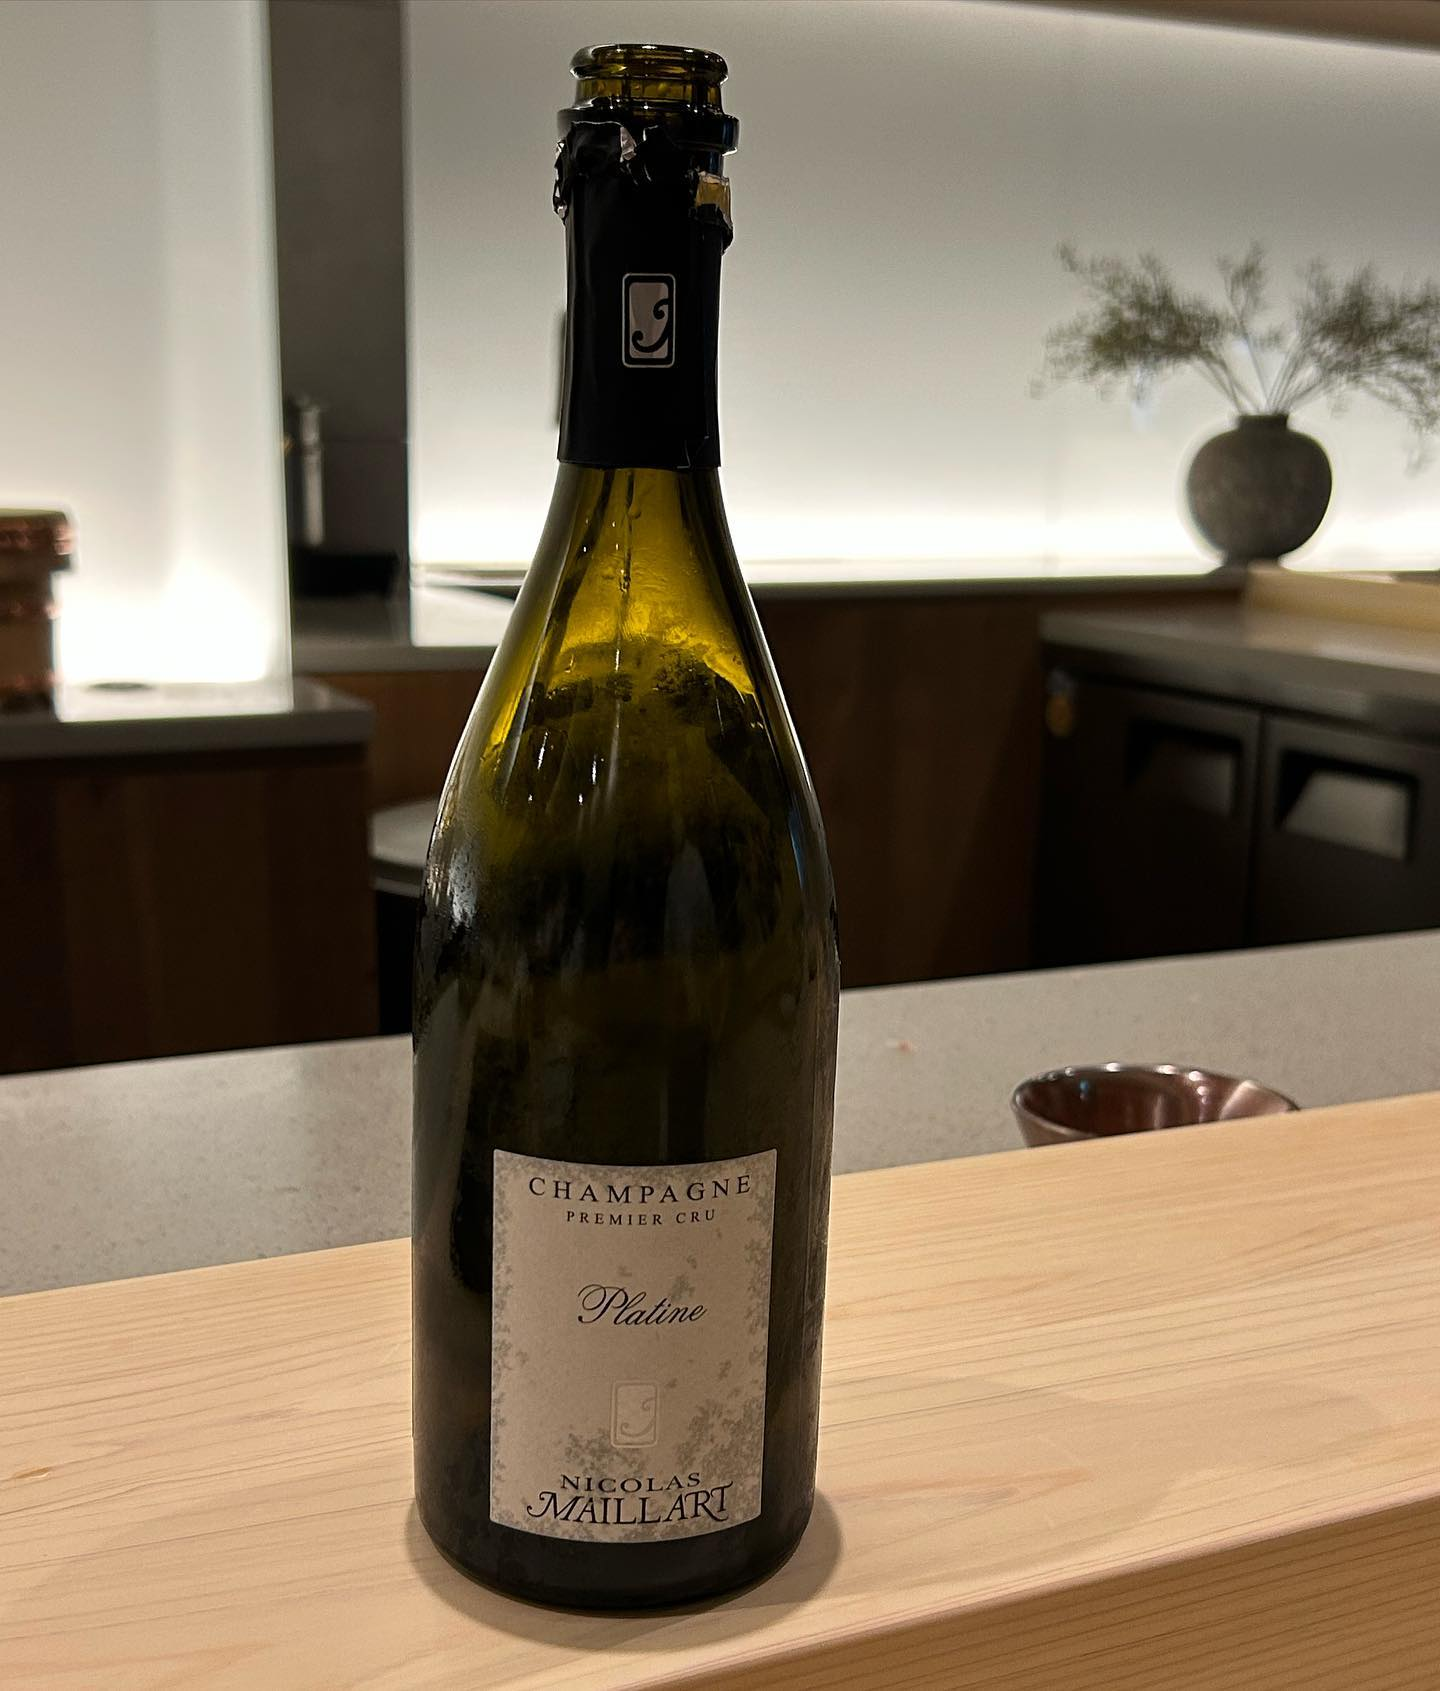alcohol: (400, 27, 851, 1632)
